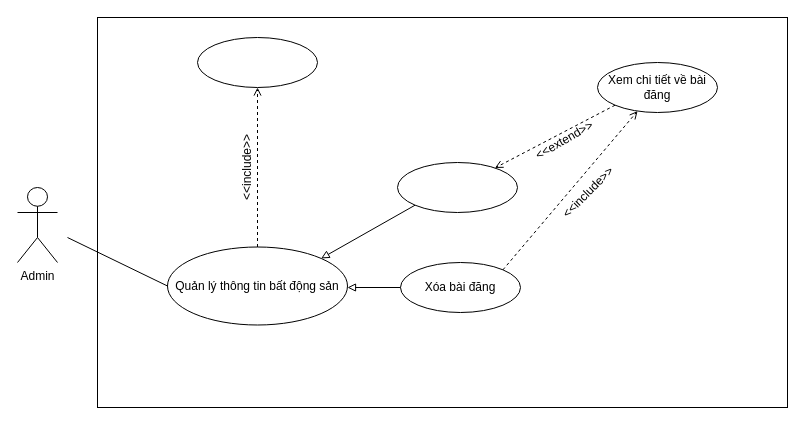
This 805x425 diagram has some shape labels left out. Here are the shapes that lost their labels. From the top down, the centre of each, then its label:
At (257,62): "Đăng nhập".
At (457,187): "Xem bài đăng".
